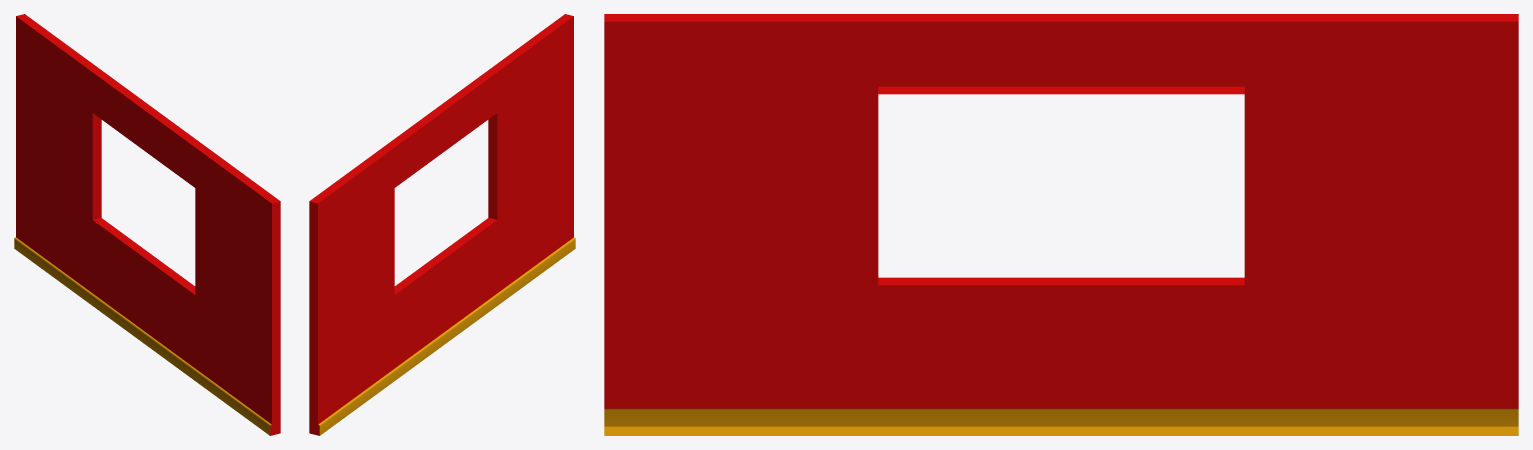
Rendered from Wall_03_1S.fbx.
The picture shows the model from 3 angles, left to right: view 1: azimuth 30°, elevation 25°; view 2: azimuth 150°, elevation 25°; view 3: azimuth 270°, elevation 25°; orthographic projection. The views are drawn at different scales.
Parts seen in each view (by area): view 1: Wall_03; view 2: Wall_03; view 3: Wall_03.
Part boxes in pixels (<box>): Wall_03: <box>14,14,280,435</box>; Wall_03: <box>309,14,575,435</box>; Wall_03: <box>604,14,1518,435</box>.
Size of the model in its own units: 240 by 5000 by 10000.
